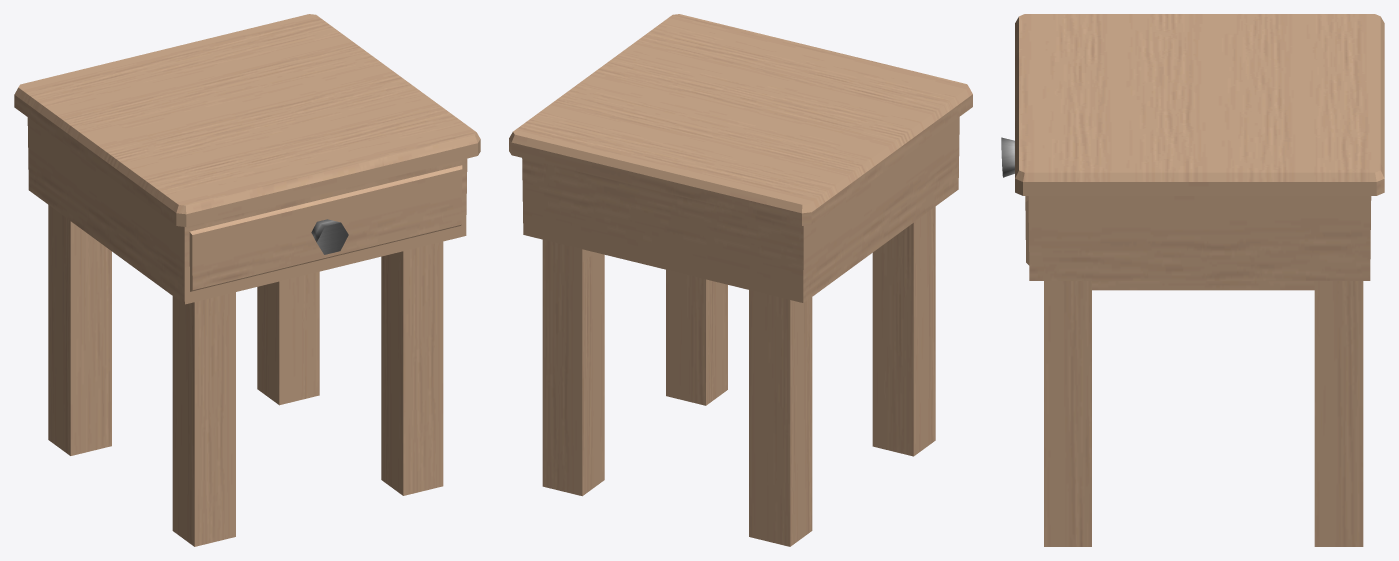
Rendered from Basic_Endtable_C.FBX.
The picture shows the model from 3 angles, left to right: view 1: azimuth 30°, elevation 25°; view 2: azimuth 150°, elevation 25°; view 3: azimuth 270°, elevation 25°; orthographic projection. The views are drawn at different scales.
Visible parts, largest first — view 1: End Table; view 2: End Table; view 3: End Table.
Part boxes in pixels (box(x1,y1,x2,y2)): End Table: box(14, 14, 480, 546); End Table: box(509, 14, 972, 546); End Table: box(1001, 14, 1384, 546).
Bounding box in the file's own units: 88.66 × 98.76 × 88.61.
